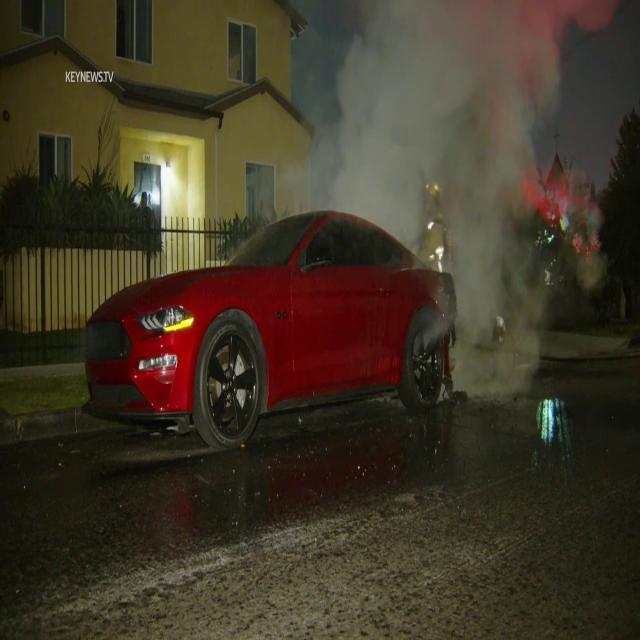Smoke: (301, 0, 577, 270)
